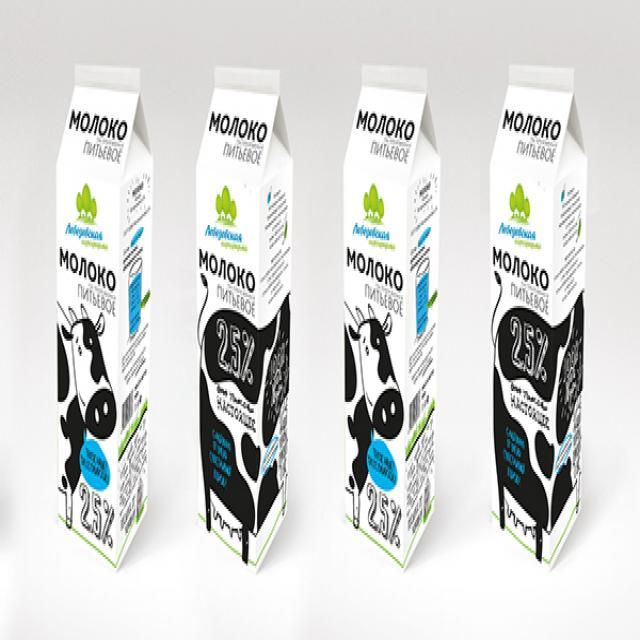non_white_jug: (334, 24, 441, 581), (483, 67, 598, 576), (191, 59, 298, 579), (52, 58, 156, 573)
